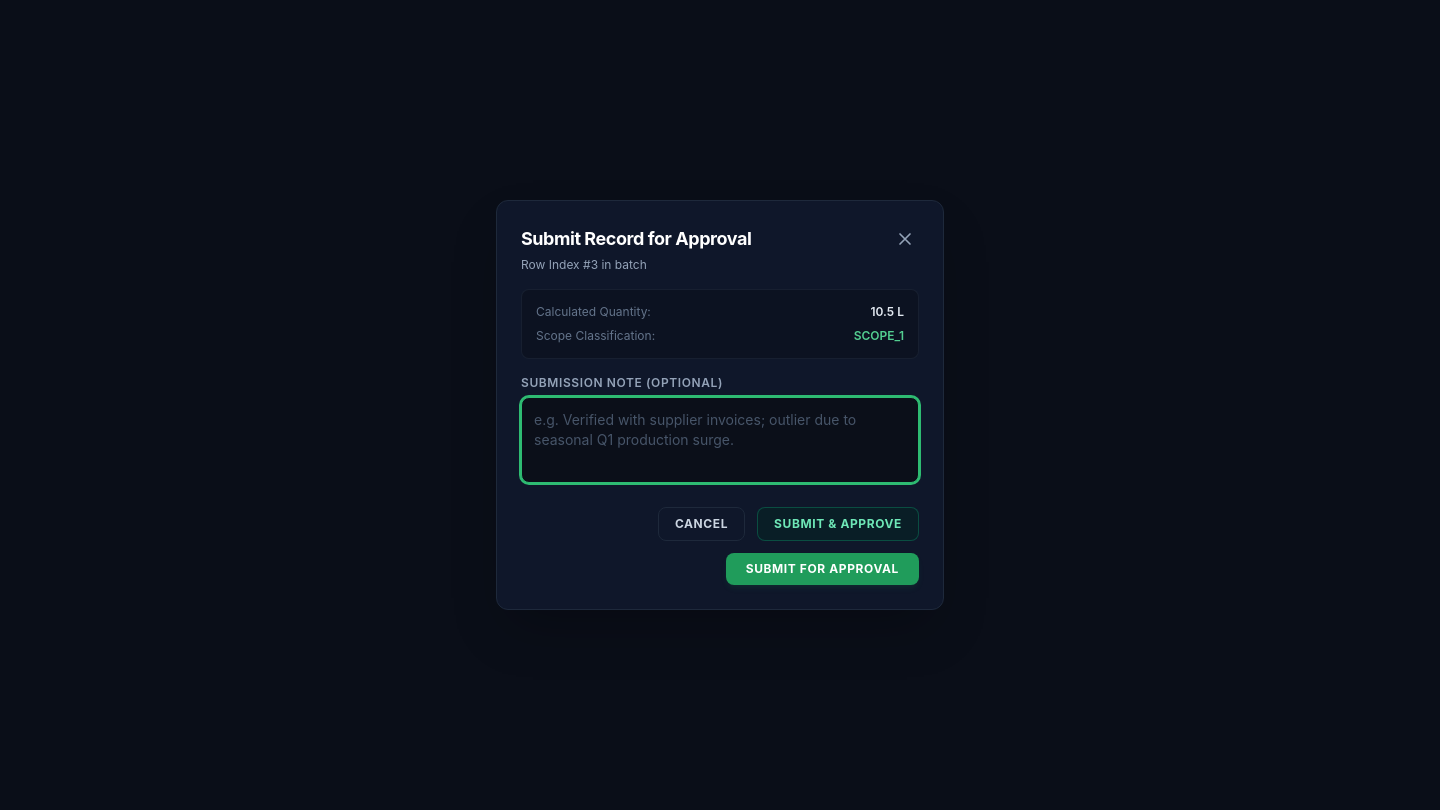
Test: ApprovalModal workflow contract › does NOT invalidate dashboard queries when an action fails
What coordinates should you click on to do the following:
click the button "Submit for Approval"
I would click on:
 (822, 569)
Its box is [726,553,919,585].
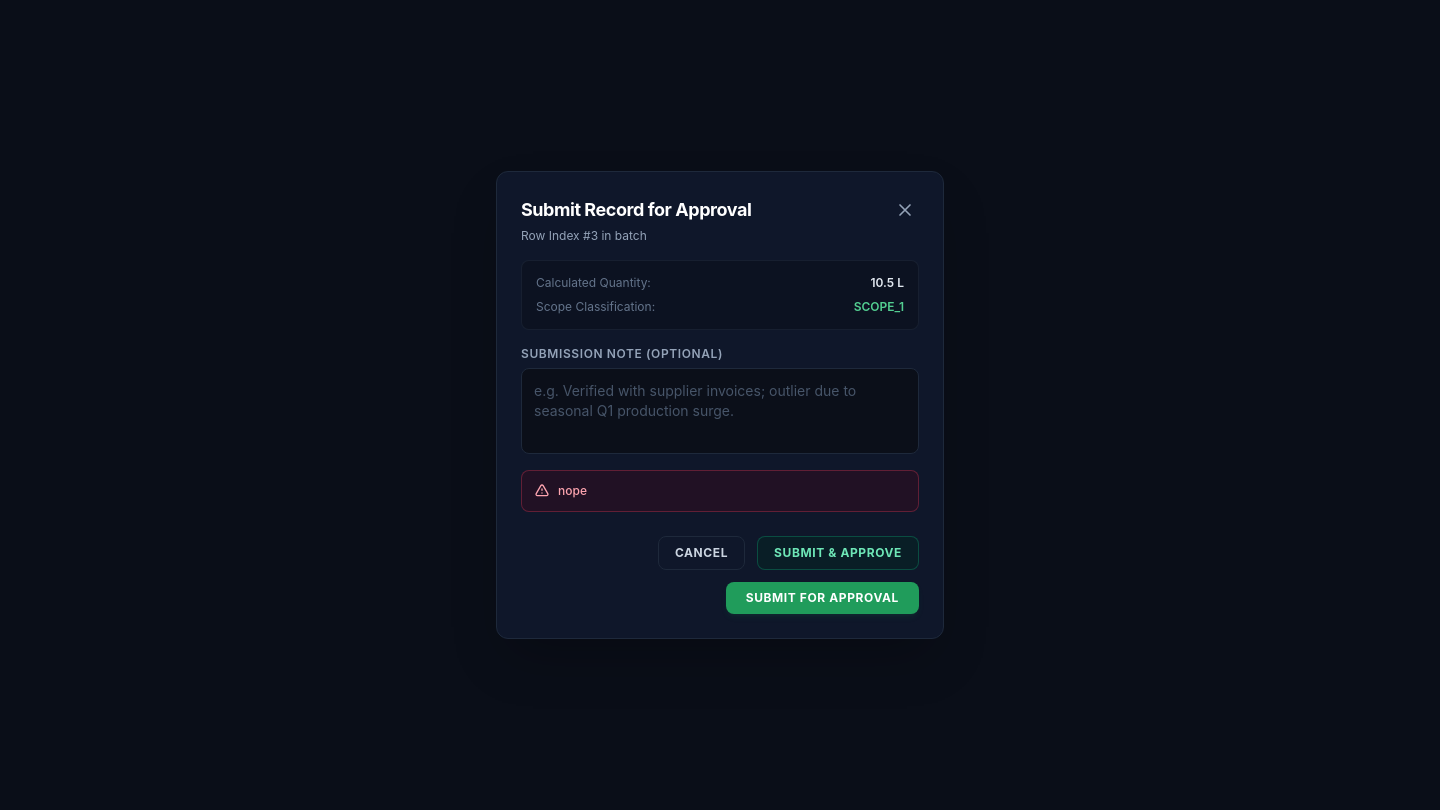
Now the text "nope" is shown, box [558,483,587,499]
